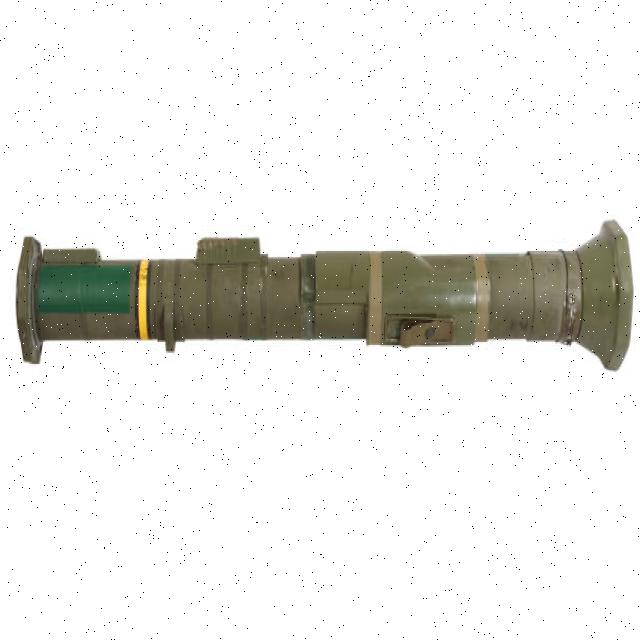bazooka: (9, 213, 640, 373)
